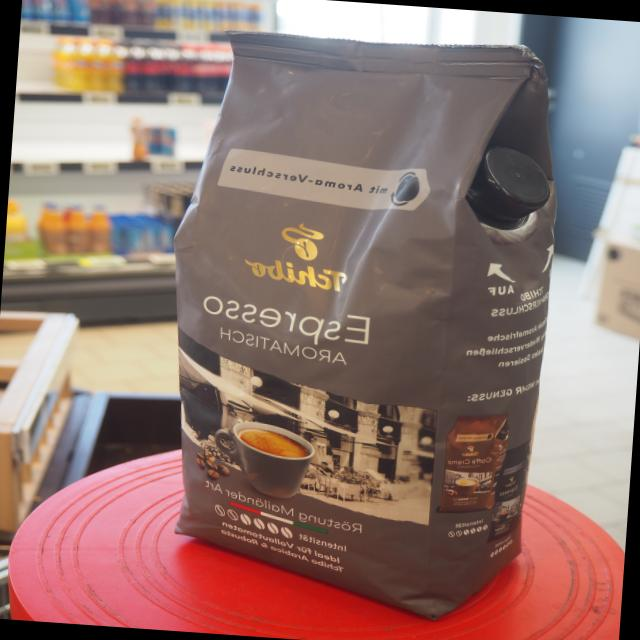Espresso Aromatisch: (135, 16, 573, 635)
